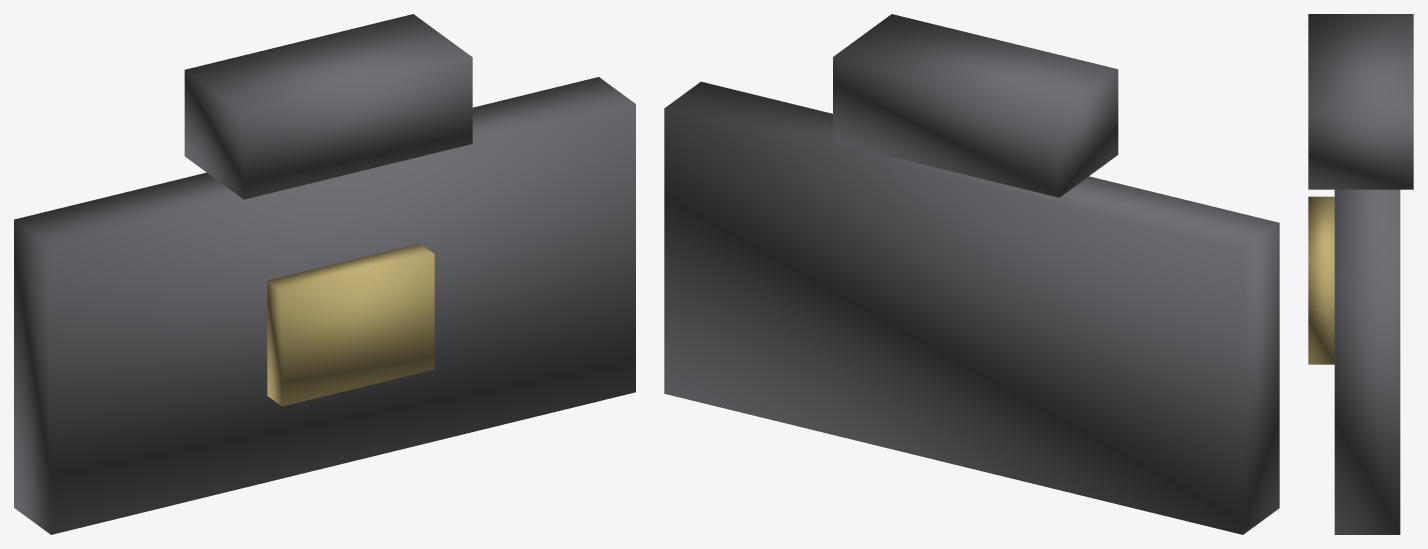
The model's file is floor_indicator_06.glb.
The picture shows the model from 3 angles, left to right: view 1: azimuth 30°, elevation 25°; view 2: azimuth 150°, elevation 25°; view 3: azimuth 270°, elevation 25°; orthographic projection. The views are drawn at different scales.
Visible parts, largest first — view 1: world; view 2: world; view 3: world.
Part boxes in pixels (<box>): world: <box>14,14,635,534</box>; world: <box>664,14,1279,534</box>; world: <box>1308,14,1413,534</box>.
Size of the model in its own units: 0.4416 by 0.2808 by 0.0776.
